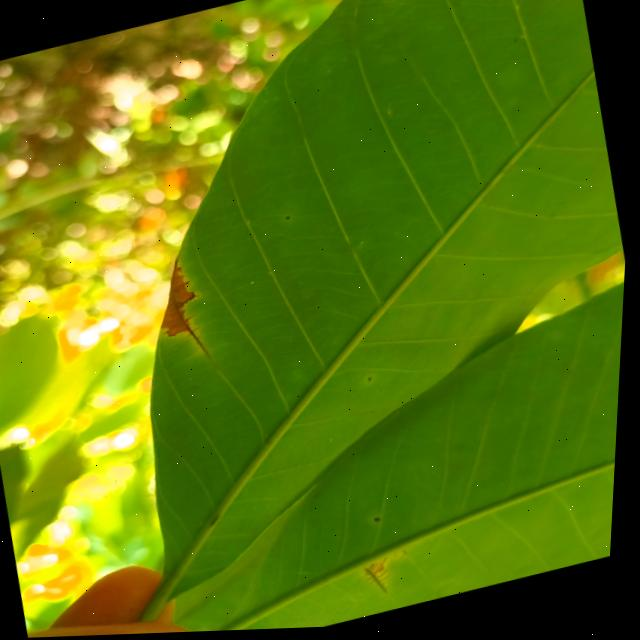Corynespora: (176, 313, 217, 365)
Leaf-Blight: (152, 266, 206, 340)
